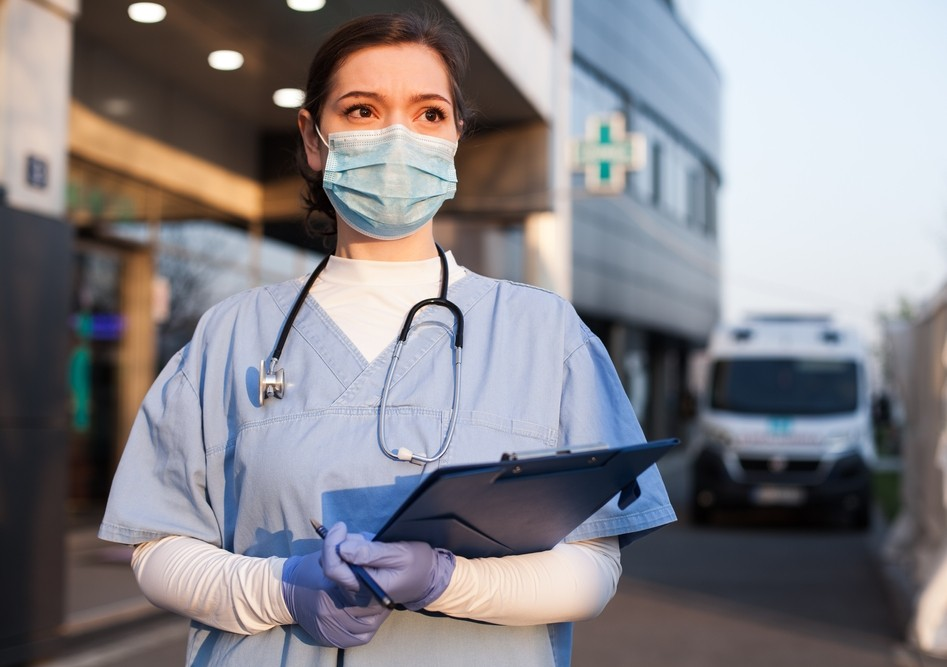Gloves: (321, 519, 458, 614), (283, 549, 383, 649)
with_mask: (320, 93, 457, 243)
